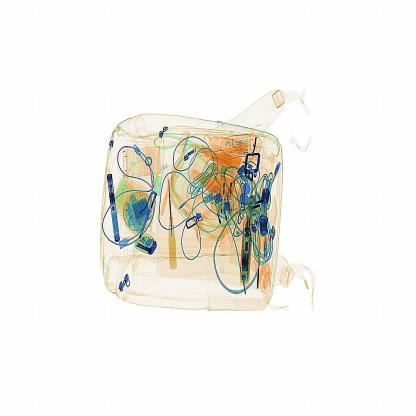wrench: (161, 174, 180, 272)
